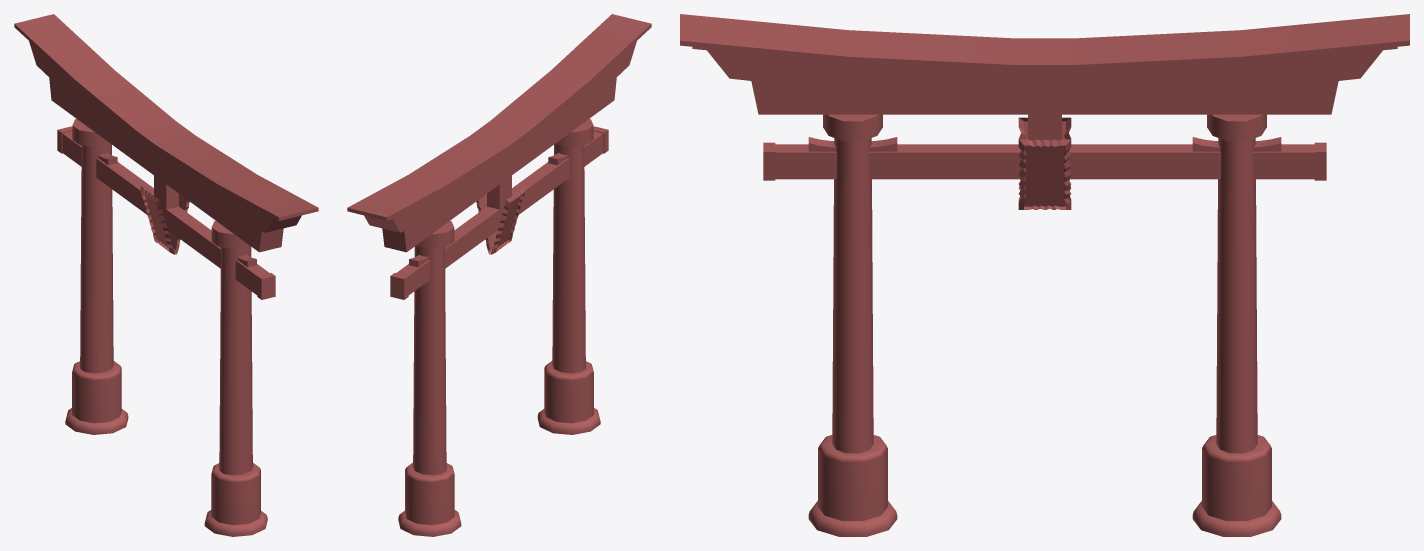
File: lp_torii_gate.fbx
3 renders of one model, left to right at view 1: azimuth 30°, elevation 25°; view 2: azimuth 150°, elevation 25°; view 3: azimuth 270°, elevation 25°, orthographic. The views are drawn at different scales.
Parts seen in each view (by area): view 1: Torii_Gate3; view 2: Torii_Gate3; view 3: Torii_Gate3.
Part boxes in pixels (x1,y1,x2,y2): Torii_Gate3: (14, 14, 318, 536); Torii_Gate3: (347, 14, 651, 536); Torii_Gate3: (680, 14, 1409, 536).
Bounding box in the file's own units: 2.41 × 15.48 × 20.82.
